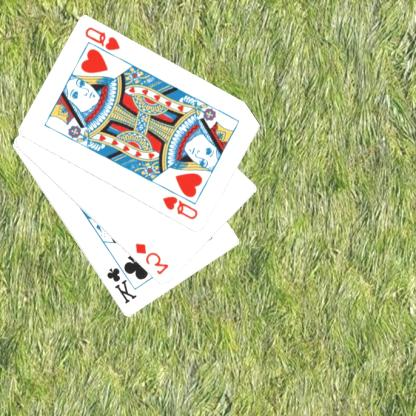3D: (134, 240, 172, 277)
KC: (106, 257, 140, 306)
QH: (84, 24, 124, 62), (162, 194, 202, 222)
